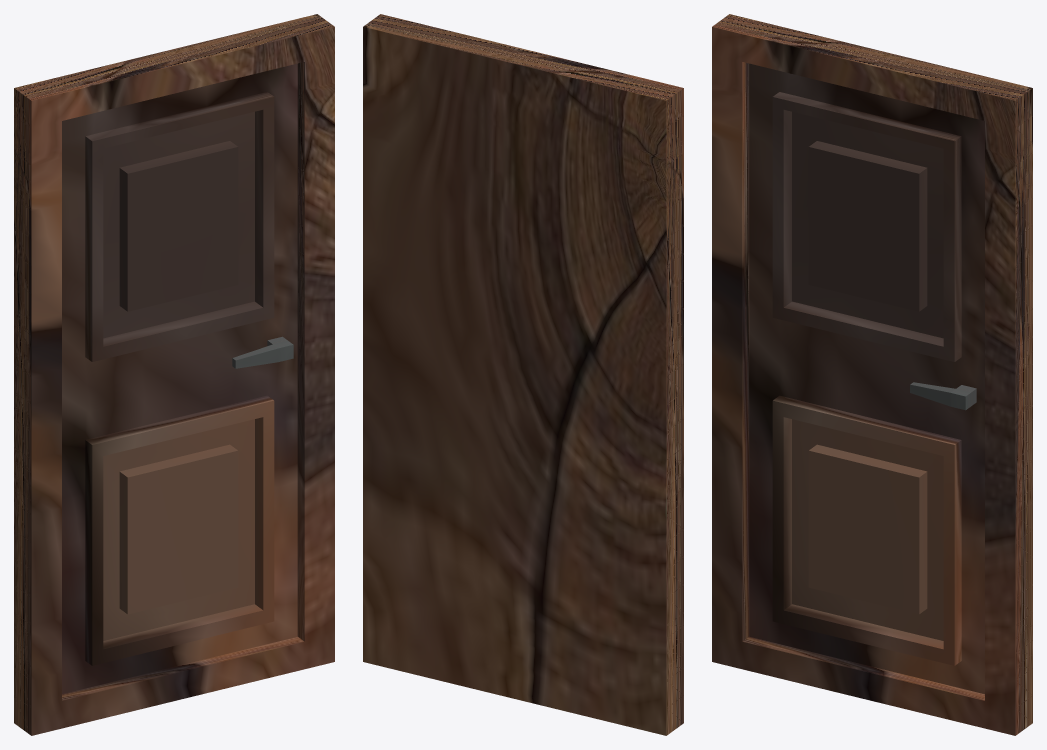
File: Puerta_50.fbx
The picture shows the model from 3 angles, left to right: view 1: azimuth 30°, elevation 25°; view 2: azimuth 150°, elevation 25°; view 3: azimuth 330°, elevation 25°; orthographic projection.
Parts seen in each view (by area): view 1: Cube.050; view 2: Cube.050; view 3: Cube.050.
Part boxes in pixels (x1,y1,x2,y2): Cube.050: (14,14,334,735); Cube.050: (363,14,683,735); Cube.050: (712,14,1032,735).
Size of the model in its own units: 200 by 400 by 24.74.
